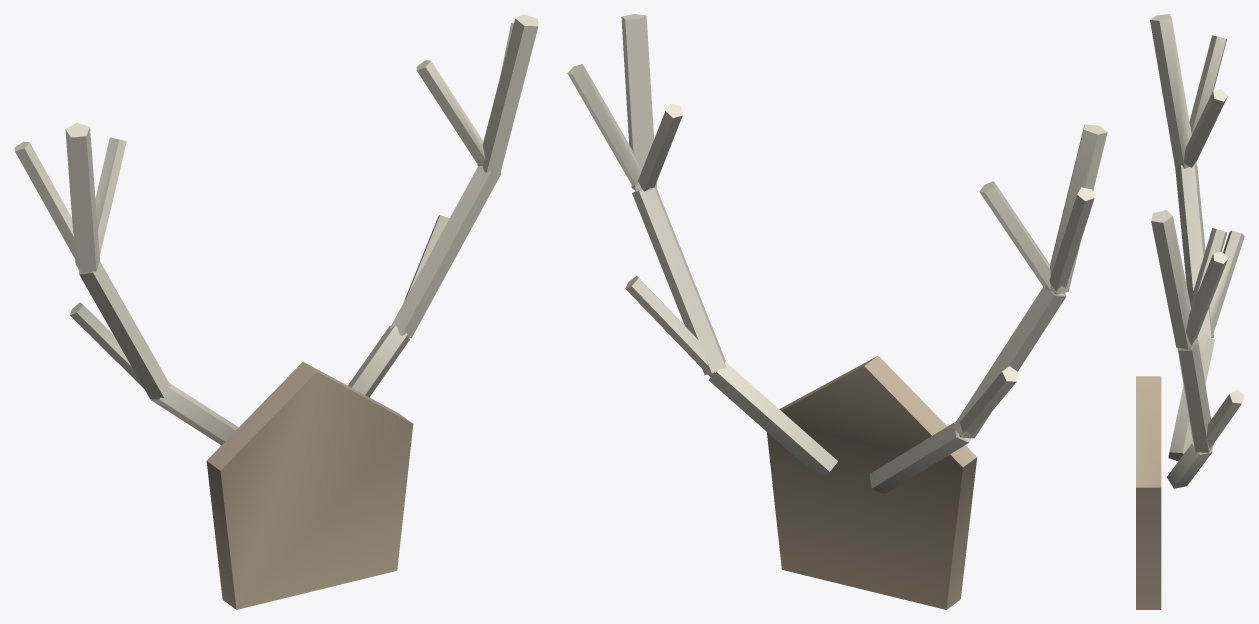
File: antlers.glb
3 views of the same model, side by side, from view 1: azimuth 30°, elevation 25°; view 2: azimuth 150°, elevation 25°; view 3: azimuth 270°, elevation 25° (orthographic). The views are drawn at different scales.
Parts seen in each view (by area): view 1: static; view 2: static; view 3: static.
Part boxes in pixels (box(x1,y1,x2,y2)): static: box(14, 14, 538, 609); static: box(567, 14, 1107, 609); static: box(1136, 14, 1244, 609).
Bounding box in the file's own units: 0.6372 × 0.6031 × 0.1292.
